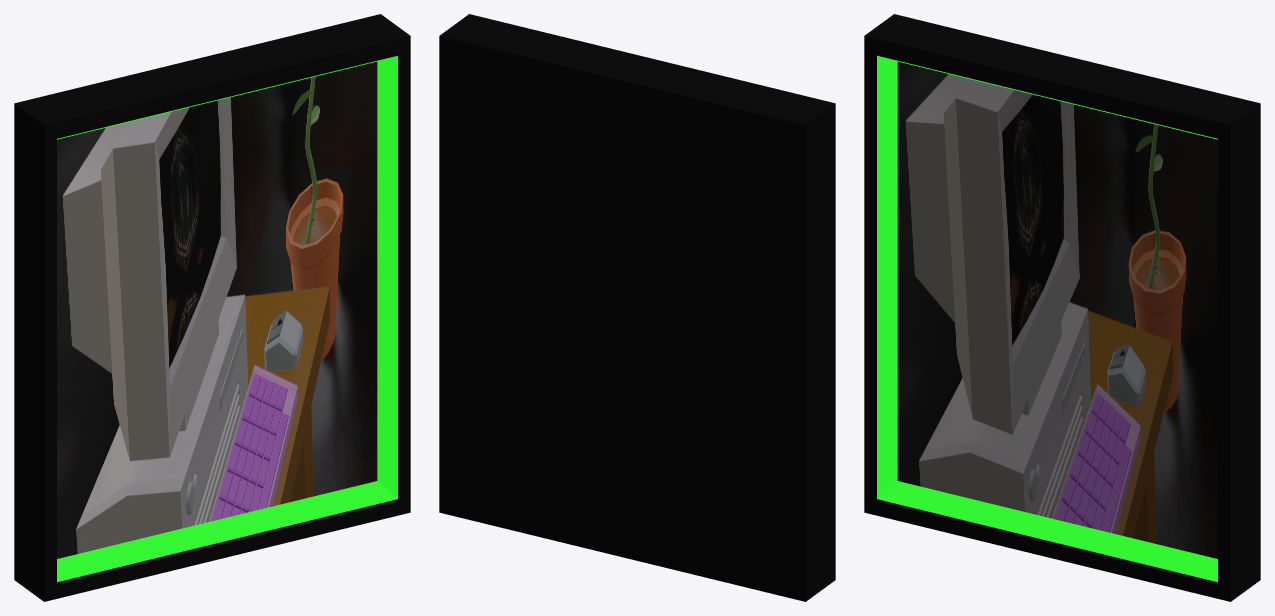
File: PictureFrame7.glb
The picture shows the model from 3 angles, left to right: view 1: azimuth 30°, elevation 25°; view 2: azimuth 150°, elevation 25°; view 3: azimuth 330°, elevation 25°; orthographic projection.
Parts seen in each view (by area): view 1: Cube.136; view 2: Cube.136; view 3: Cube.136.
Boxes of the visible parts, x1=… form: Cube.136: x1=14, y1=14, x2=410, y2=601; Cube.136: x1=439, y1=14, x2=835, y2=601; Cube.136: x1=864, y1=14, x2=1260, y2=601.
Bounding box in the file's own units: 2.94 × 3.66 × 0.4176.
3 materials, 1 textured.
